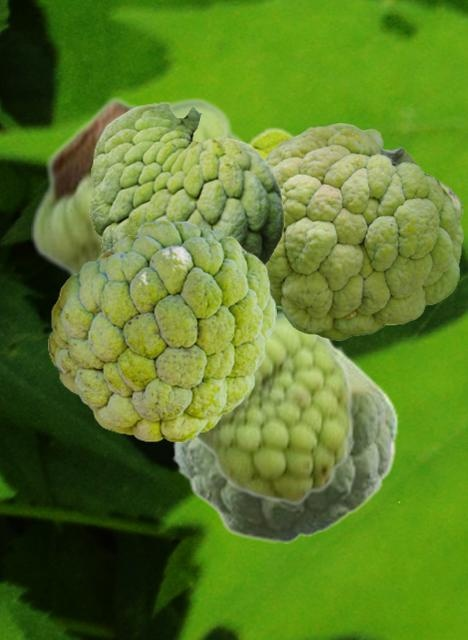atis: (48, 220, 275, 441), (168, 340, 399, 542), (265, 123, 462, 339), (31, 95, 245, 275), (89, 101, 283, 264), (194, 310, 354, 506), (246, 126, 296, 309)
